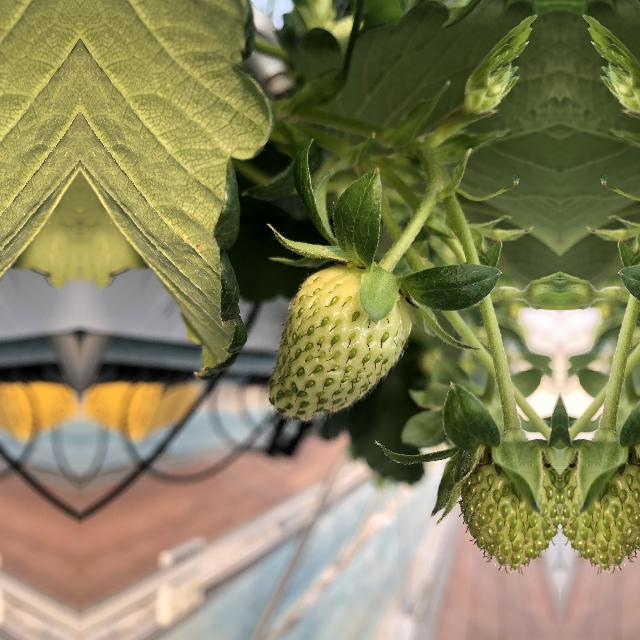Health_25: (270, 259, 414, 421), (462, 444, 560, 570), (560, 444, 640, 569)
